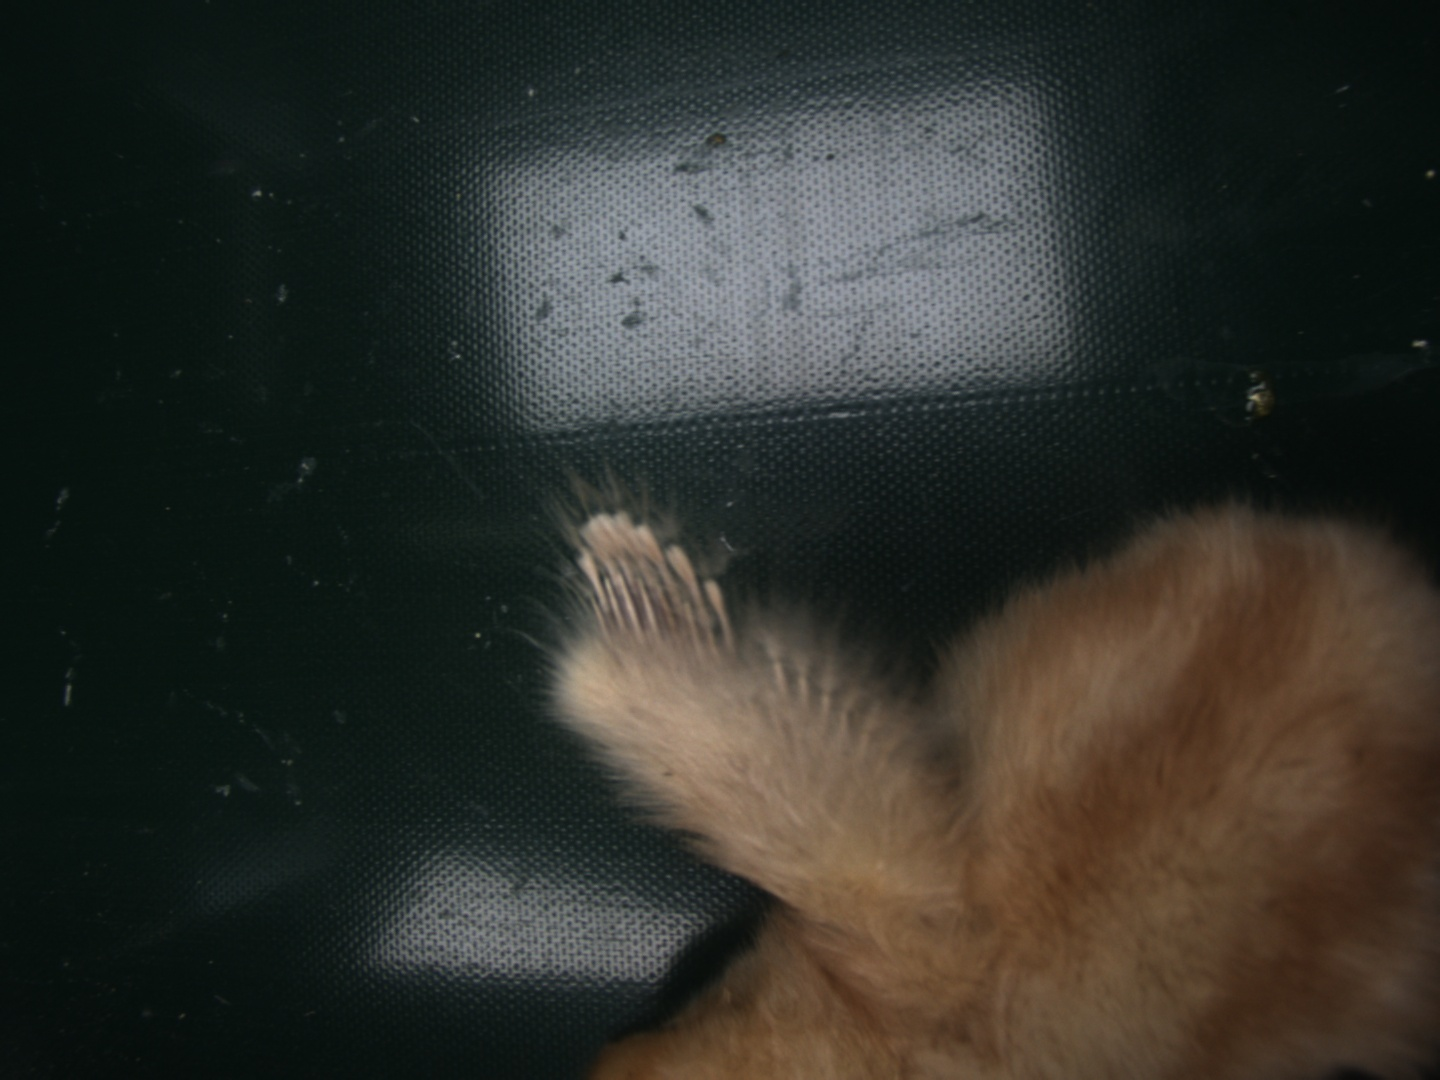female: (570, 511, 734, 668)
